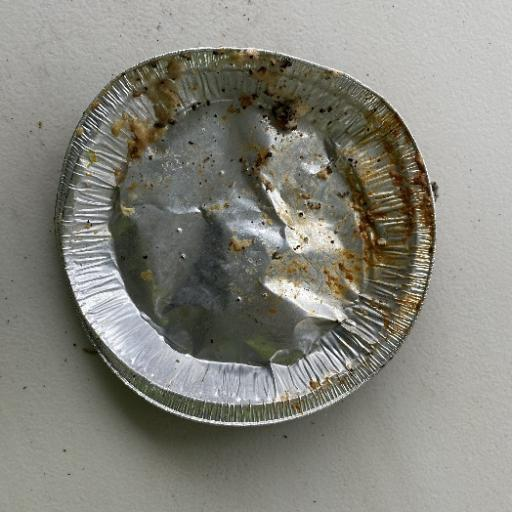Metal: (52, 46, 438, 427)
